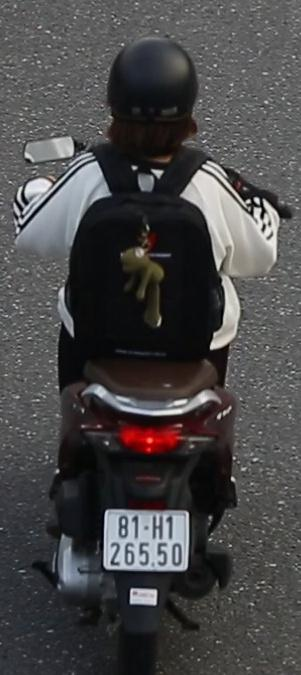LP: (101, 501, 194, 577)
helmet: (99, 32, 207, 166)
